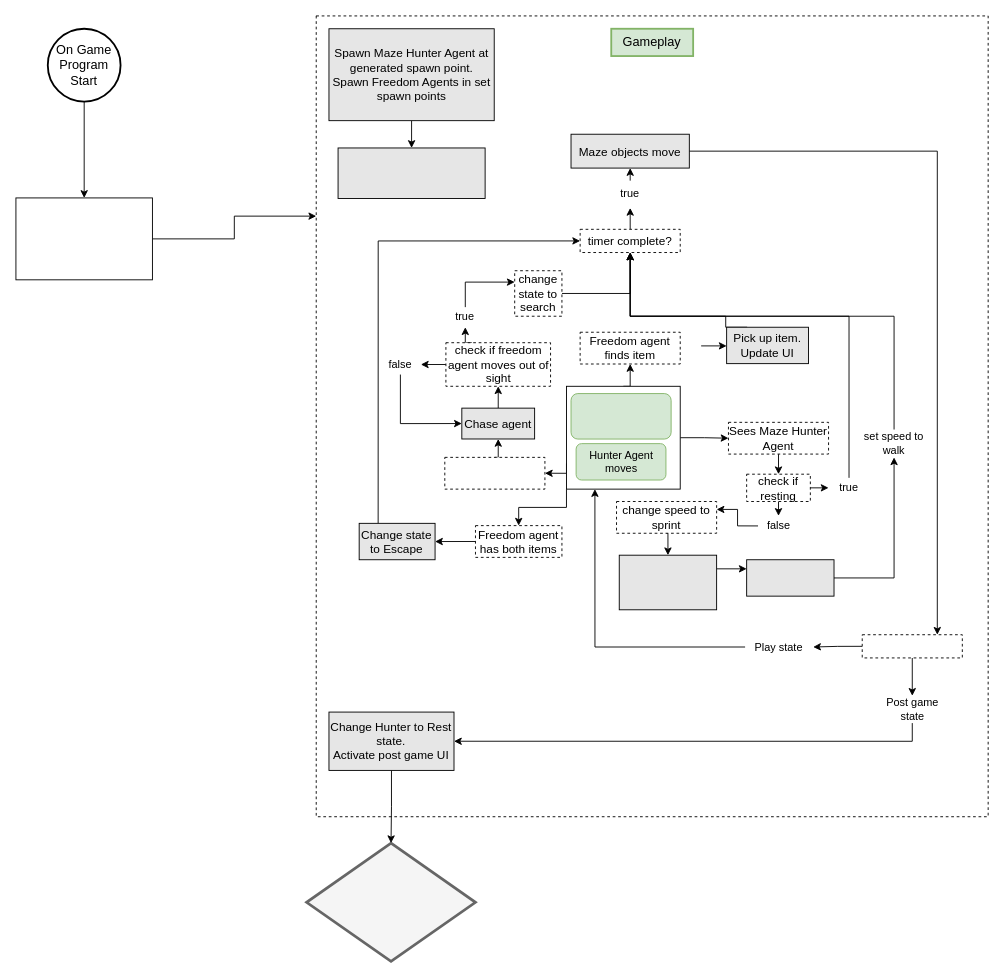
The diagram is 1005 pixels wide and 978 high, and some of its shapes have lost their labels. The centre of each missing label's shape, as x and y in pixels:
check game state: the point at 911,646
Display win animation Display lose animation: the point at 390,901
Flee in random direction away from Hunter for 8 seconds: the point at 667,582
Freedom Agents move: the point at 620,416
Generate random position on map (with NavMesh) for Maze Hunter AI to spawn.: the point at 83,238
Hunter agent finds Freedom agent: the point at 494,472
Initiate map timers and movement of maze objects: the point at 411,172
Stop for 4 seconds to rest: the point at 790,577
